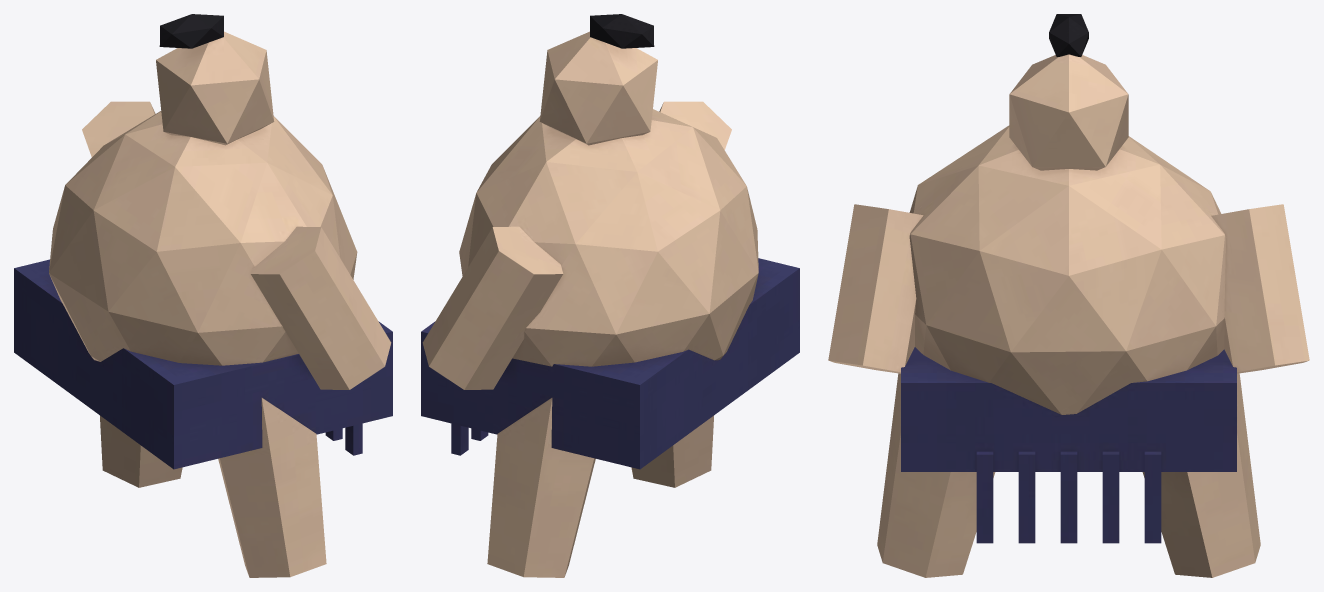
File: sumo_tex.glb
3 renders of one model, left to right at view 1: azimuth 30°, elevation 25°; view 2: azimuth 150°, elevation 25°; view 3: azimuth 270°, elevation 25°, orthographic. The views are drawn at different scales.
Parts seen in each view (by area): view 1: Kropp, BenH, BenV; view 2: Kropp, BenV, BenH; view 3: Kropp, BenH, BenV.
Part boxes in pixels (x1,y1,x2,y2): Kropp: [14, 14, 392, 469]; BenH: [218, 398, 326, 577]; BenV: [100, 415, 182, 487]; Kropp: [421, 14, 799, 469]; BenV: [487, 398, 595, 577]; BenH: [631, 415, 713, 487]; Kropp: [828, 14, 1309, 543]; BenH: [877, 373, 995, 577]; BenV: [1142, 373, 1260, 577].
Size of the model in its own units: 1.1 by 2.13 by 1.72.
3 materials, 3 textured.
